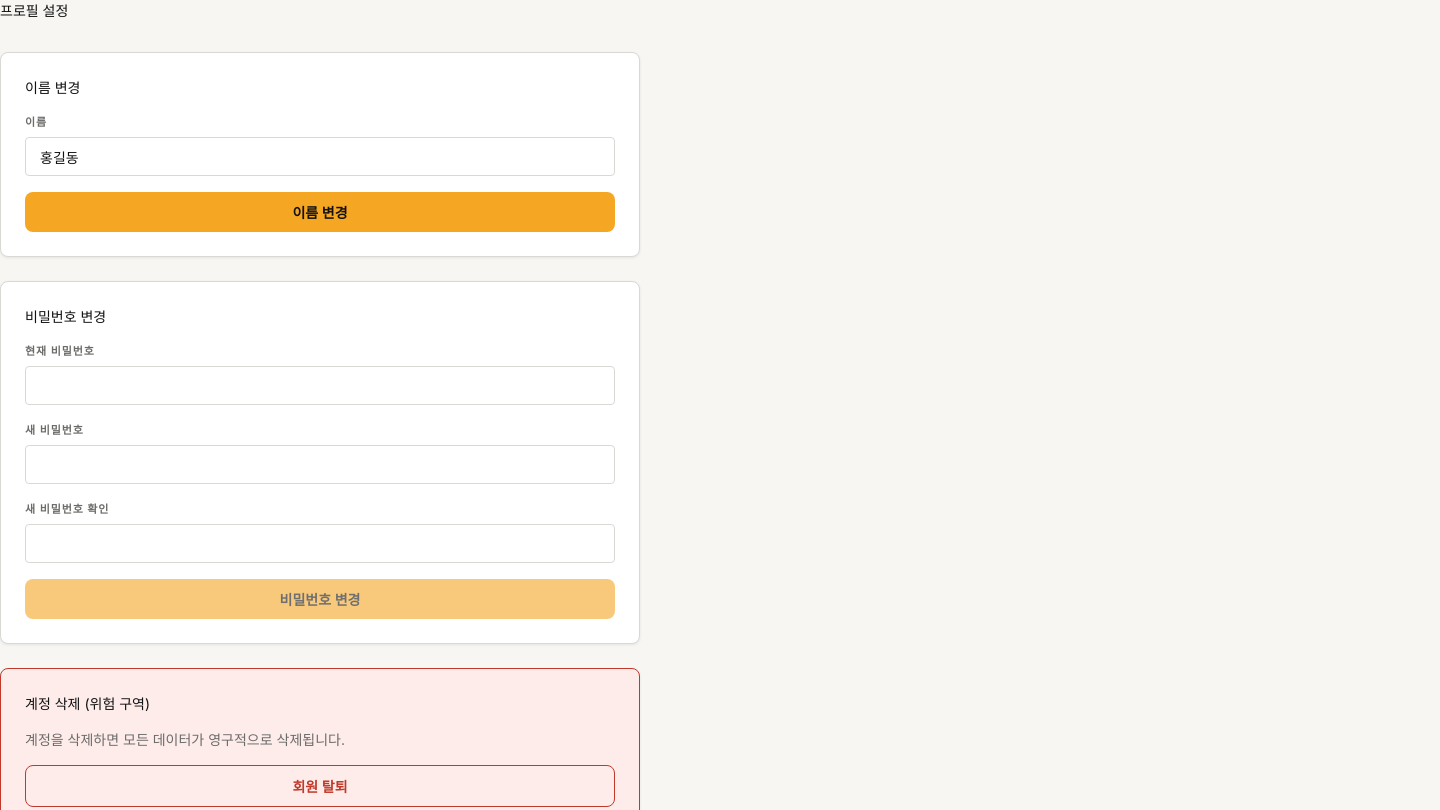
Test: ProfilePage › 회원 탈퇴 섹션 › 회원 탈퇴 버튼 클릭 시 확인 모달이 표시된다
Click the button "회원 탈퇴".
click(320, 786)  # box [25, 765, 615, 807]
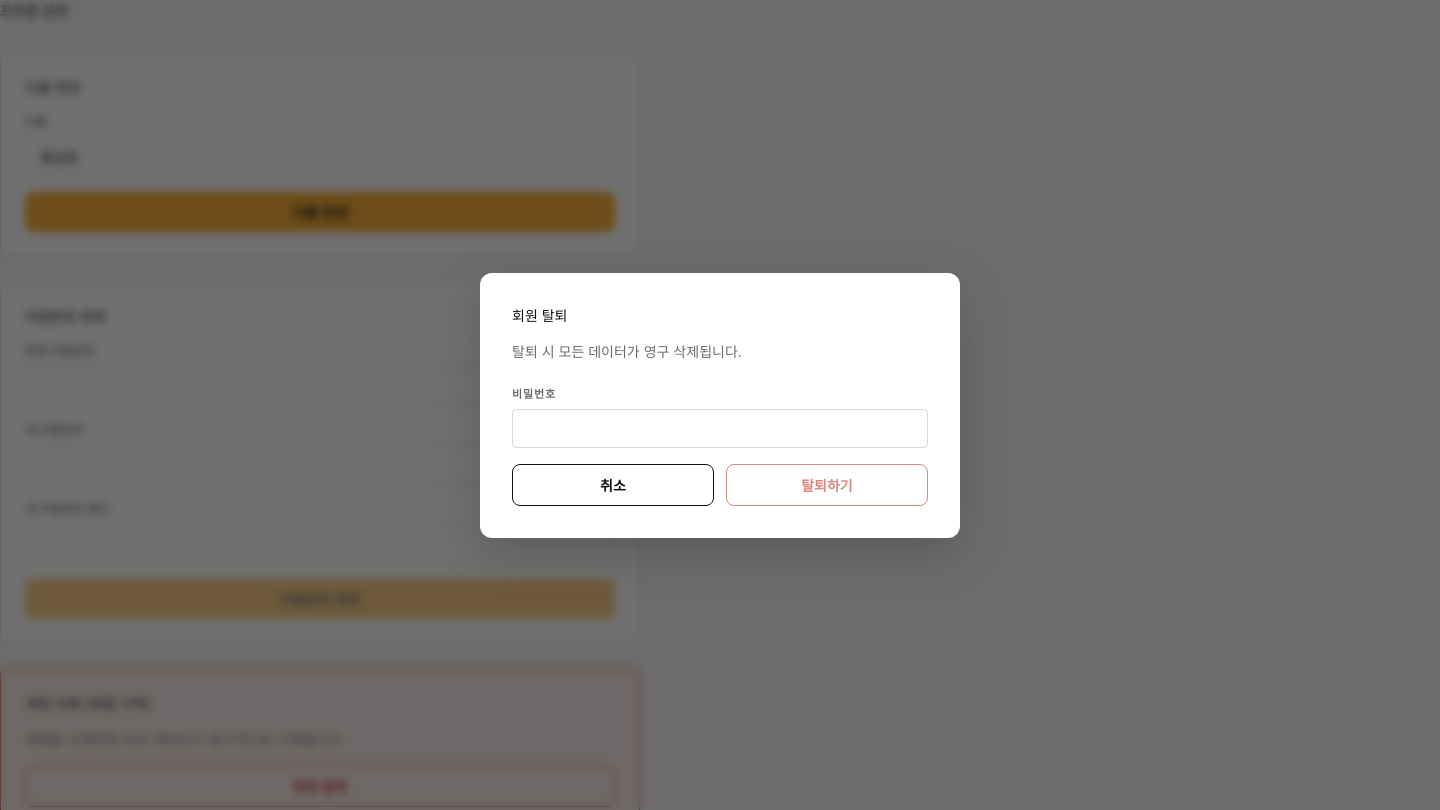
Check: the text "탈퇴 시 모든 데이터가 영구 삭제됩니다." is shown, box [512, 342, 742, 360]
